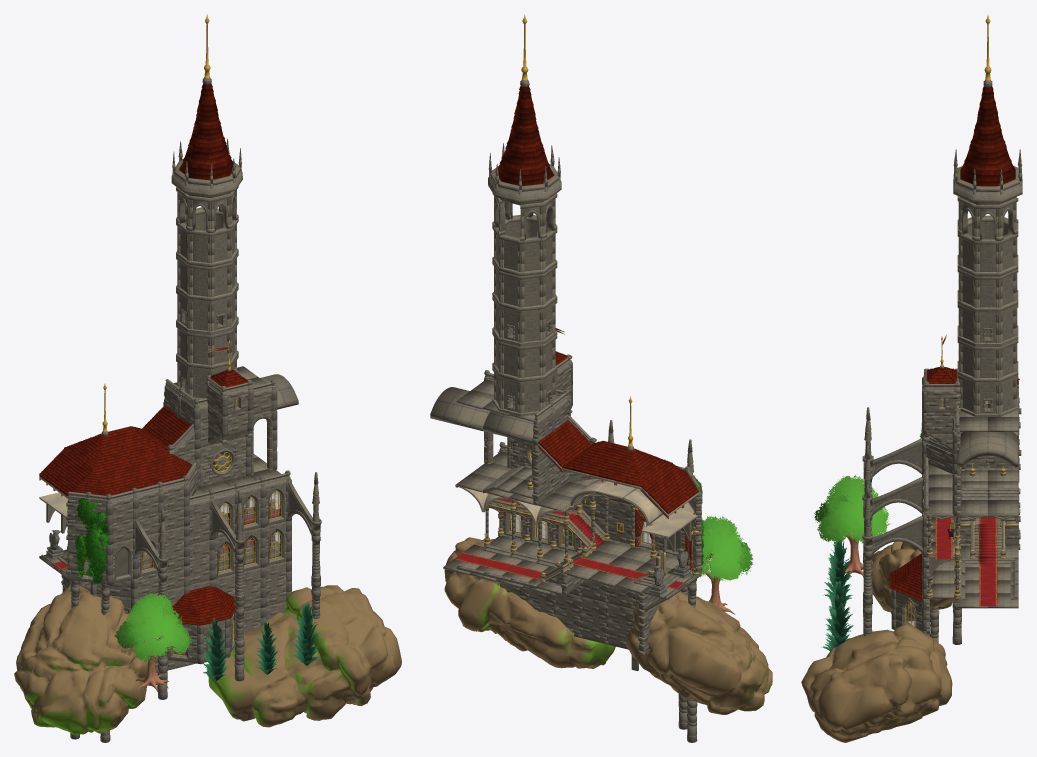
File: cell_x-3_z1_render.gltf
3 views of the same model, side by side, from view 1: azimuth 30°, elevation 25°; view 2: azimuth 150°, elevation 25°; view 3: azimuth 270°, elevation 25° (orthographic). The views are drawn at different scales.
Parts seen in each view (by area): view 1: SM_ENV_cliff_castle_02_LOD0.003, SM_ENV_cliff_castle_01_LOD0.027, SM_ENV_tree_castle_01_LOD0.019, SM_MOD_tower_roof_castle_LOD0.011, SM_MOD_tower_segment_wall_castle_LOD0.013, SM_MOD_tower_segment_wall_castle_LOD0.012, SM_MOD_tower_segment_window_castle_LOD0.020, SM_MOD_tower_segment_wall_castle_LOD0.001, SM_MOD_tower_segment_top_deco_castle_LOD0.004, SM_MOD_deco_flying_buttress_castle_LOD0.009, SM_MOD_deco_flying_buttress_castle_LOD0.030, SM_MOD_deco_flying_buttress_castle_LOD0.007 (+29 smaller); view 2: SM_ENV_cliff_castle_01_LOD0.027, SM_ENV_cliff_castle_02_LOD0.003, SM_MOD_tower_roof_castle_LOD0.011, SM_MOD_tower_segment_wall_castle_LOD0.013, SM_ENV_tree_castle_01_LOD0.019, SM_MOD_tower_segment_wall_castle_LOD0.001, SM_MOD_tower_segment_wall_castle_LOD0.012, SM_MOD_tower_segment_window_castle_LOD0.020, SM_MOD_tower_segment_window_castle_LOD0.024, SM_MOD_tower_segment_top_deco_castle_LOD0.004, SM_MOD_ceiling_round_castle_LOD0.004, SM_MOD_wall_big_castle_LOD0.332 (+15 smaller); view 3: SM_ENV_cliff_castle_02_LOD0.003, SM_ENV_tree_castle_01_LOD0.019, SM_MOD_tower_roof_castle_LOD0.011, SM_MOD_tower_segment_wall_castle_LOD0.013, SM_MOD_tower_segment_wall_castle_LOD0.001, SM_MOD_tower_segment_wall_castle_LOD0.012, SM_MOD_tower_segment_window_castle_LOD0.020, SM_MOD_tower_segment_window_castle_LOD0.024, SM_ENV_cliff_castle_01_LOD0.027, SM_MOD_deco_flying_buttress_castle_LOD0.030, SM_MOD_ceiling_round_castle_LOD0.004, SM_MOD_tower_segment_top_deco_castle_LOD0.004 (+21 smaller).
Boxes of the visible parts, x1,y1,x2,y2 form: SM_ENV_cliff_castle_02_LOD0.003: (207,585,401,727); SM_ENV_cliff_castle_01_LOD0.027: (14,584,147,734); SM_ENV_tree_castle_01_LOD0.019: (114,593,191,691); SM_MOD_tower_roof_castle_LOD0.011: (179,83,235,180); SM_MOD_tower_segment_wall_castle_LOD0.013: (176,207,238,267); SM_MOD_tower_segment_wall_castle_LOD0.012: (176,252,238,301); SM_MOD_tower_segment_window_castle_LOD0.020: (176,286,238,335); SM_MOD_tower_segment_wall_castle_LOD0.001: (176,316,238,369); SM_MOD_tower_segment_top_deco_castle_LOD0.004: (171,138,242,198); SM_MOD_deco_flying_buttress_castle_LOD0.009: (211,490,245,601); SM_MOD_deco_flying_buttress_castle_LOD0.030: (287,472,321,582); SM_MOD_deco_flying_buttress_castle_LOD0.007: (134,509,168,598); SM_ENV_cliff_castle_01_LOD0.027: (626,591,772,714); SM_ENV_cliff_castle_02_LOD0.003: (444,537,615,668); SM_MOD_tower_roof_castle_LOD0.011: (495,86,554,185); SM_MOD_tower_segment_wall_castle_LOD0.013: (492,215,557,276); SM_ENV_tree_castle_01_LOD0.019: (700,515,753,614); SM_MOD_tower_segment_wall_castle_LOD0.001: (492,327,557,381); SM_MOD_tower_segment_wall_castle_LOD0.012: (492,261,557,311); SM_MOD_tower_segment_window_castle_LOD0.020: (492,296,557,346); SM_MOD_tower_segment_window_castle_LOD0.024: (492,367,557,416); SM_MOD_tower_segment_top_deco_castle_LOD0.004: (488,143,561,204); SM_MOD_ceiling_round_castle_LOD0.004: (430,387,490,430); SM_MOD_wall_big_castle_LOD0.332: (578,596,608,644); SM_ENV_cliff_castle_02_LOD0.003: (801,622,952,742); SM_ENV_tree_castle_01_LOD0.019: (814,474,890,577); SM_MOD_tower_roof_castle_LOD0.011: (960,86,1015,186); SM_MOD_tower_segment_wall_castle_LOD0.013: (957,215,1018,276); SM_MOD_tower_segment_wall_castle_LOD0.001: (957,329,1018,382); SM_MOD_tower_segment_wall_castle_LOD0.012: (957,269,1018,311); SM_MOD_tower_segment_window_castle_LOD0.020: (957,304,1018,346); SM_MOD_tower_segment_window_castle_LOD0.024: (957,375,1018,416); SM_ENV_cliff_castle_01_LOD0.027: (872,541,957,621); SM_MOD_deco_flying_buttress_castle_LOD0.030: (862,485,922,599); SM_MOD_ceiling_round_castle_LOD0.004: (957,432,1018,466); SM_MOD_tower_segment_top_deco_castle_LOD0.004: (953,149,1022,204).
Bounding box in the file's own units: 51.35 × 101 × 28.88.
22 materials, 21 textured.
